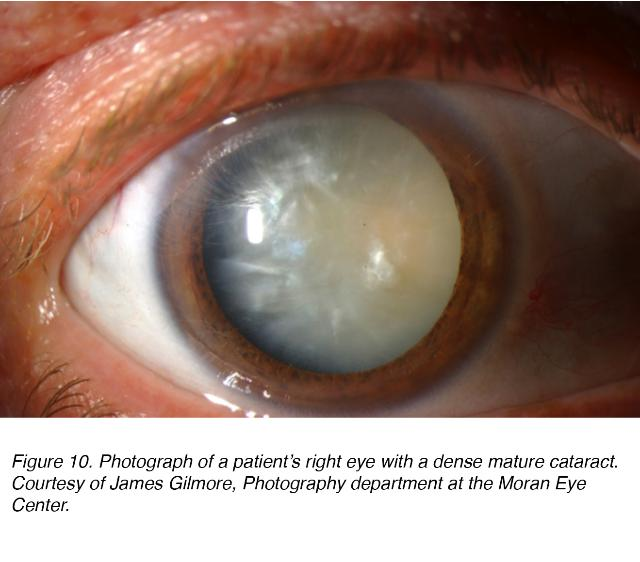eye: (146, 76, 524, 411)
